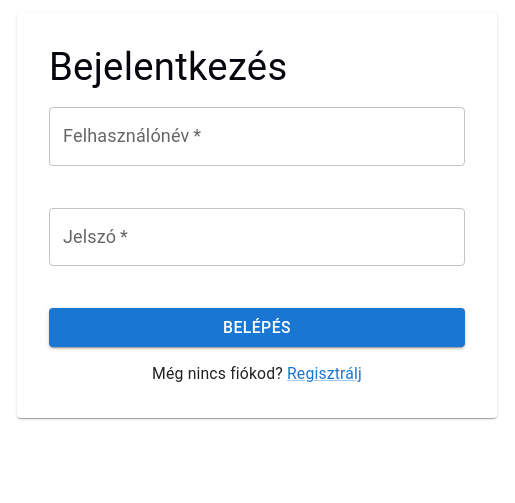
Test: Login oldal › sikertelen bejelentkezés esetén hibaüzenetet jelenít meg
Step 1. Type "wronguser" into the field named "username" → point(257, 137), box top-left (49, 107), bottom-right (465, 166)
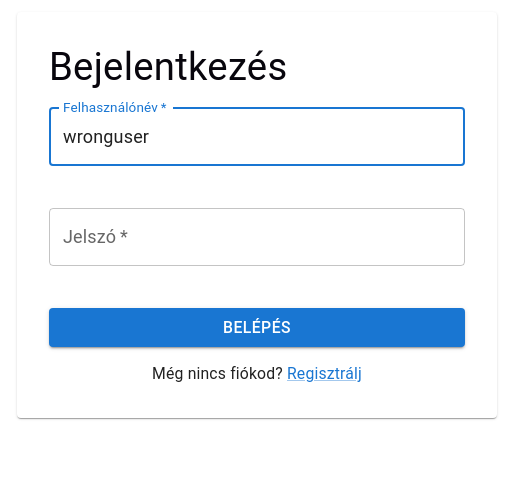
Step 2. Type "wrongpass" into the password field named "password" → point(257, 237), box top-left (49, 208), bottom-right (465, 266)
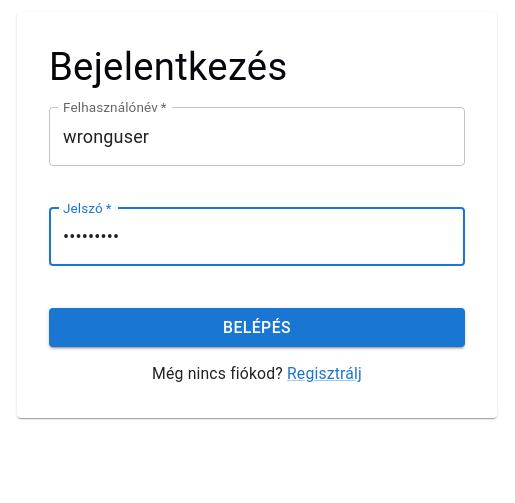
Step 3. Click the button "Belépés" → point(257, 328), box top-left (49, 308), bottom-right (465, 347)
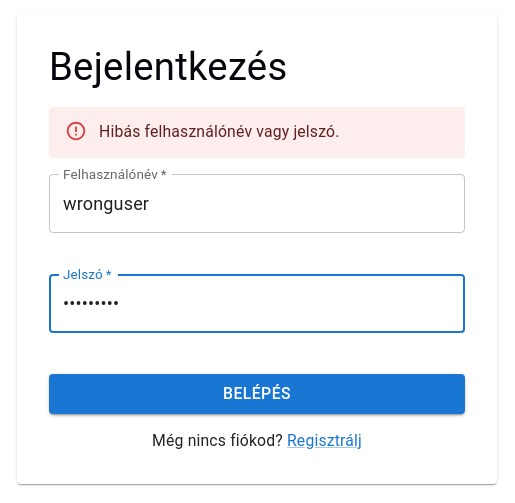
Result: the text "Hibás felhasználónév vagy jelszó." is shown at top-left (99, 122), bottom-right (340, 141)
